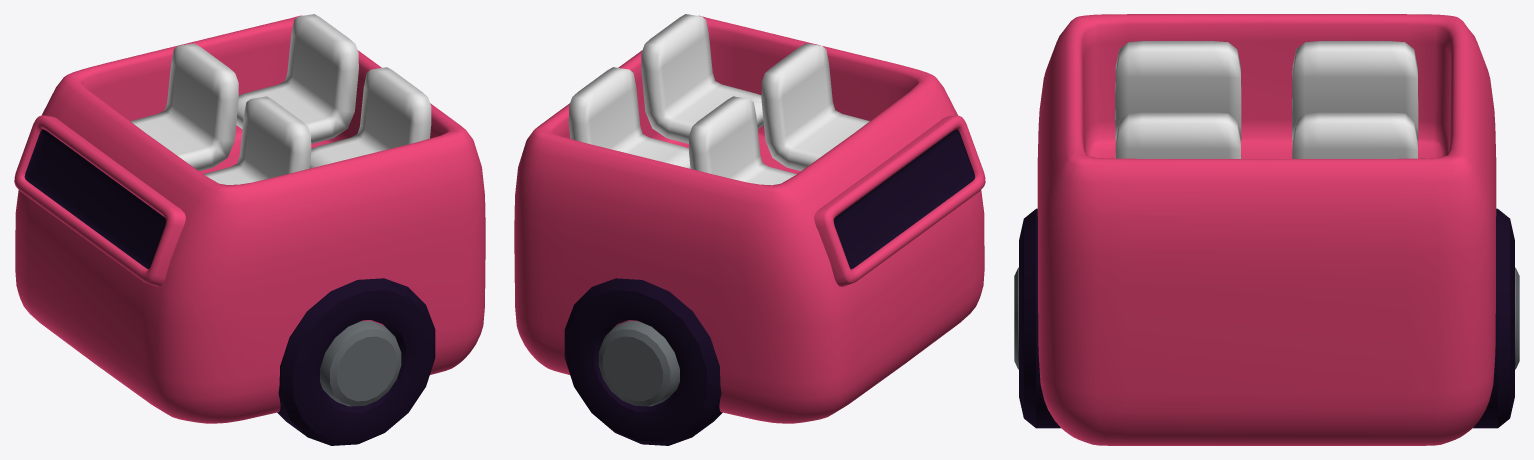
The model's file is car_l_1.fbx.
The picture shows the model from 3 angles, left to right: view 1: azimuth 30°, elevation 25°; view 2: azimuth 150°, elevation 25°; view 3: azimuth 270°, elevation 25°; orthographic projection. The views are drawn at different scales.
Parts seen in each view (by area): view 1: Cube.030, Cube.029, Cylinder.005, Cube.032; view 2: Cube.030, Cube.029, Cylinder.005, Cube.032; view 3: Cube.030, Cube.029, Cylinder.005.
Part boxes in pixels (x1,y1,x2,y2): Cube.030: (14, 15, 485, 423); Cube.029: (130, 14, 431, 184); Cylinder.005: (277, 278, 435, 445); Cube.032: (24, 129, 166, 269); Cube.030: (514, 15, 985, 423); Cube.029: (568, 14, 869, 185); Cylinder.005: (564, 278, 722, 445); Cube.032: (833, 129, 975, 269); Cube.030: (1037, 14, 1496, 445); Cube.029: (1115, 41, 1418, 158); Cylinder.005: (1014, 208, 1519, 428).
Size of the model in its own units: 202 by 173 by 220.
